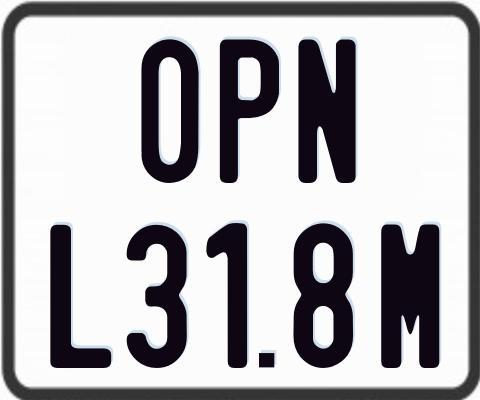0: (138, 38, 196, 186)
1: (205, 222, 249, 370)
3: (126, 223, 187, 372)
8: (292, 222, 352, 369)
L: (49, 224, 112, 369)
M: (381, 221, 443, 370)
N: (296, 38, 356, 183)
P: (219, 37, 284, 184)
